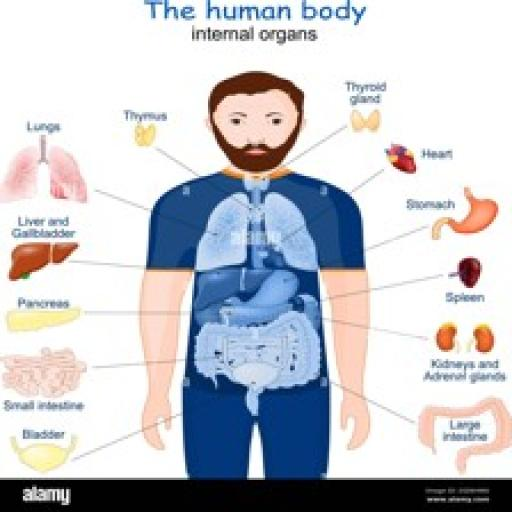human: (123, 71, 384, 512)
